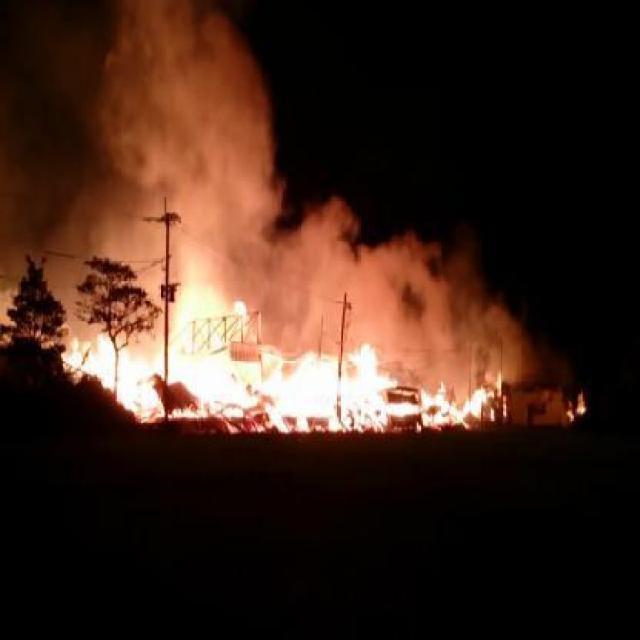Fire: (167, 346, 396, 428), (116, 340, 164, 418), (418, 384, 496, 426), (66, 338, 119, 384), (177, 288, 202, 340), (566, 388, 588, 422), (388, 398, 419, 417), (205, 296, 228, 318), (231, 300, 248, 322)
